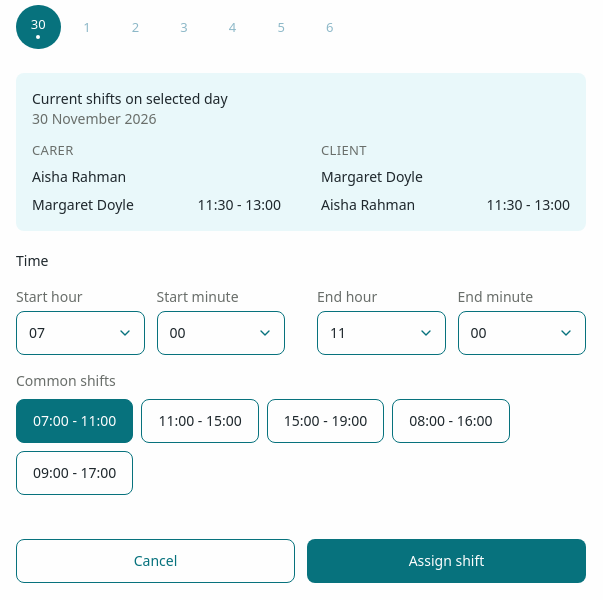
Test case: Admin Manage › [ADM-UI-02][AC-03] warns on a true overlap but permits assignment
This screenshot has width=603, height=600.
(page scrolled)
Click the button "11:00 - 15:00" at (200, 421), box [141,399,259,443]
(page scrolled)
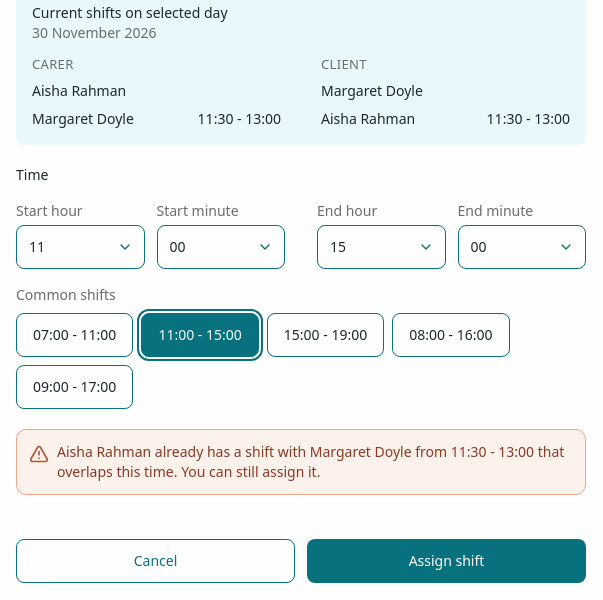
Expected: the button "Assign shift" is enabled, [307,539,586,583]
Now the message shows "11:30 - 13:00", box [57,442,564,481]
